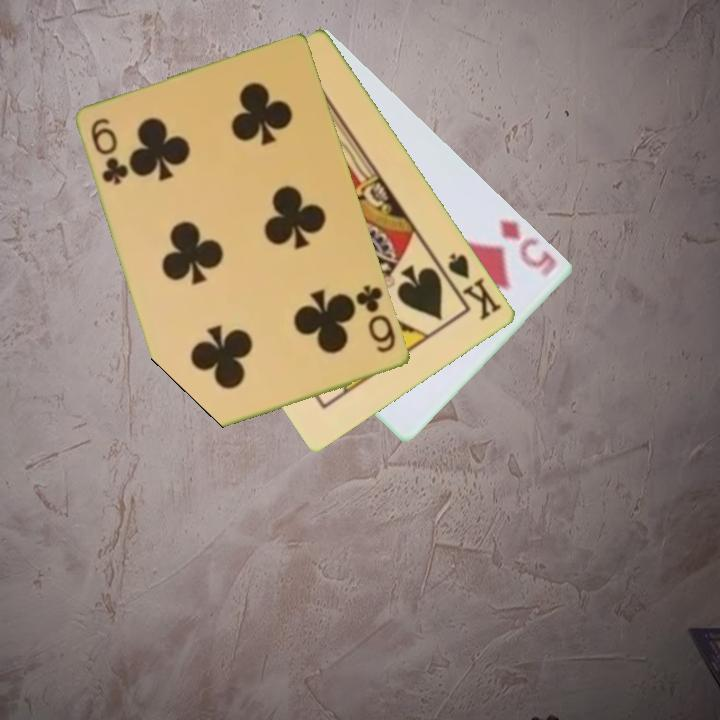5d: (496, 215, 561, 280)
6c: (353, 281, 400, 356), (88, 114, 132, 188)
Ks: (445, 249, 505, 324)
